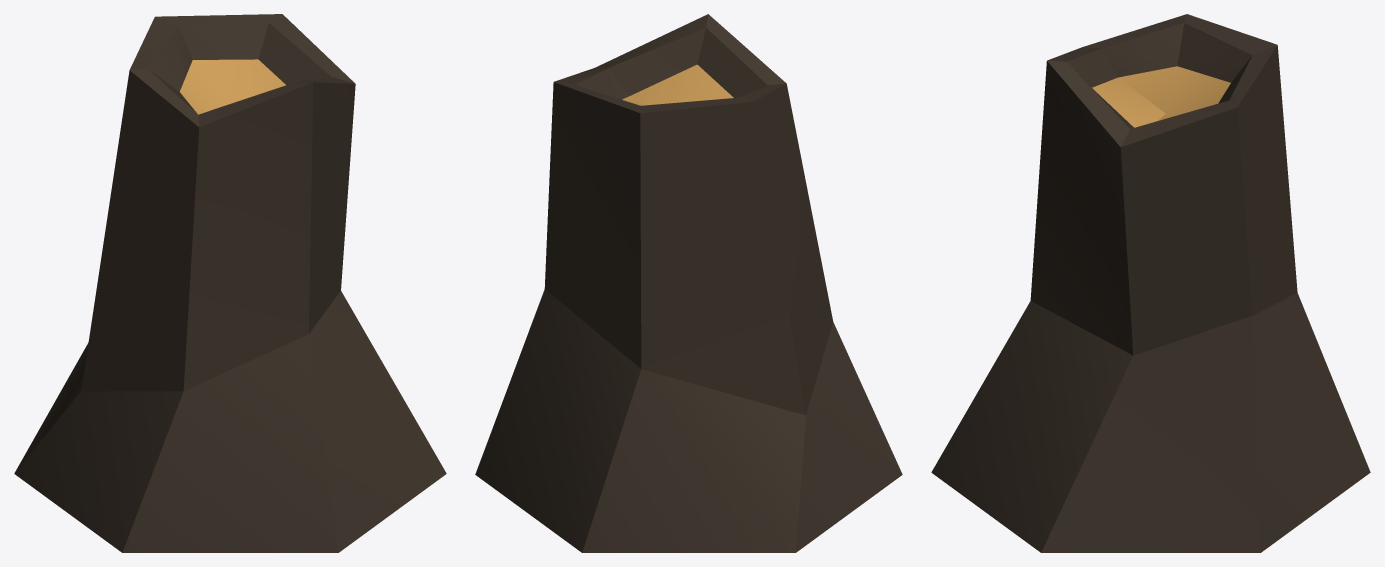
Rendered from SpruceStumpA.fbx.
The picture shows the model from 3 angles, left to right: view 1: azimuth 30°, elevation 25°; view 2: azimuth 150°, elevation 25°; view 3: azimuth 270°, elevation 25°; orthographic projection. The views are drawn at different scales.
Parts seen in each view (by area): view 1: SpruceBrokenA; view 2: SpruceBrokenA; view 3: SpruceBrokenA.
Part boxes in pixels (<box>): SpruceBrokenA: <box>14,14,446,552</box>; SpruceBrokenA: <box>475,14,902,552</box>; SpruceBrokenA: <box>931,14,1370,552</box>.
Bounding box in the file's own units: 78.61 × 97.47 × 90.77.
